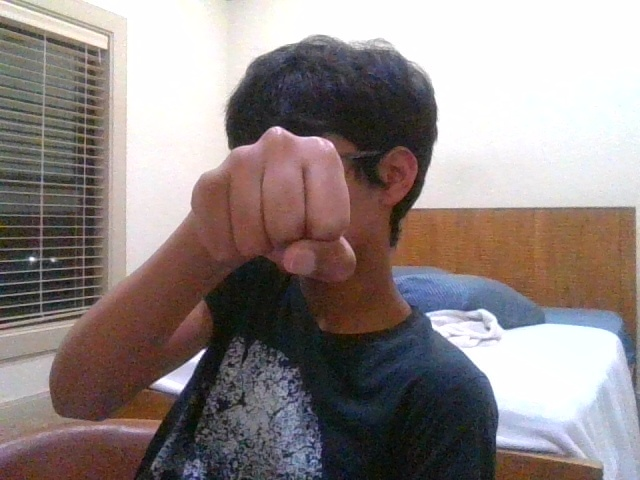yes: (192, 126, 356, 282)
